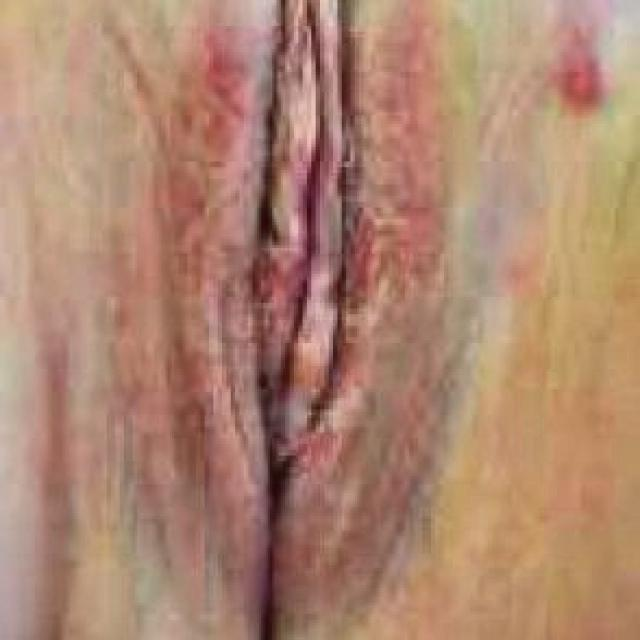Tinea Ringworm Candidiasis and other Fungal Infections: (125, 2, 252, 553), (351, 5, 437, 607), (502, 22, 612, 141)
